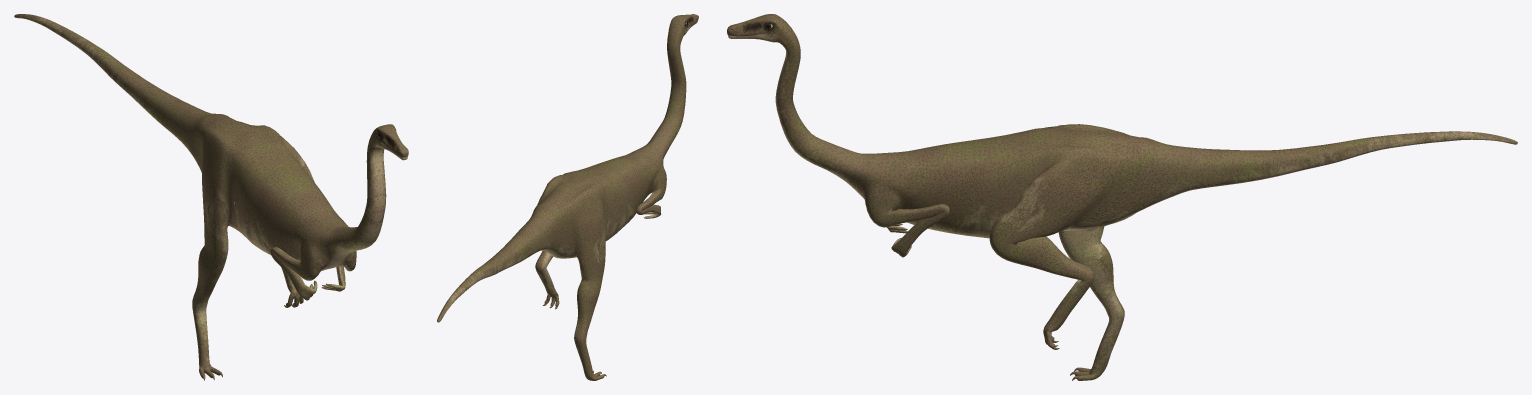
File: galimimo_parado.glb
3 renders of one model, left to right at view 1: azimuth 30°, elevation 25°; view 2: azimuth 150°, elevation 25°; view 3: azimuth 270°, elevation 25°, orthographic. The views are drawn at different scales.
Visible parts, largest first — view 1: Object_21_fixo; view 2: Object_21_fixo; view 3: Object_21_fixo.
Part boxes in pixels (x1,y1,x2,y2): Object_21_fixo: (14,14,408,380); Object_21_fixo: (437,14,698,380); Object_21_fixo: (727,14,1517,380).
Size of the model in its own units: 4.96 by 18.02 by 34.06.
Materials: 2 (2 with a texture image).
